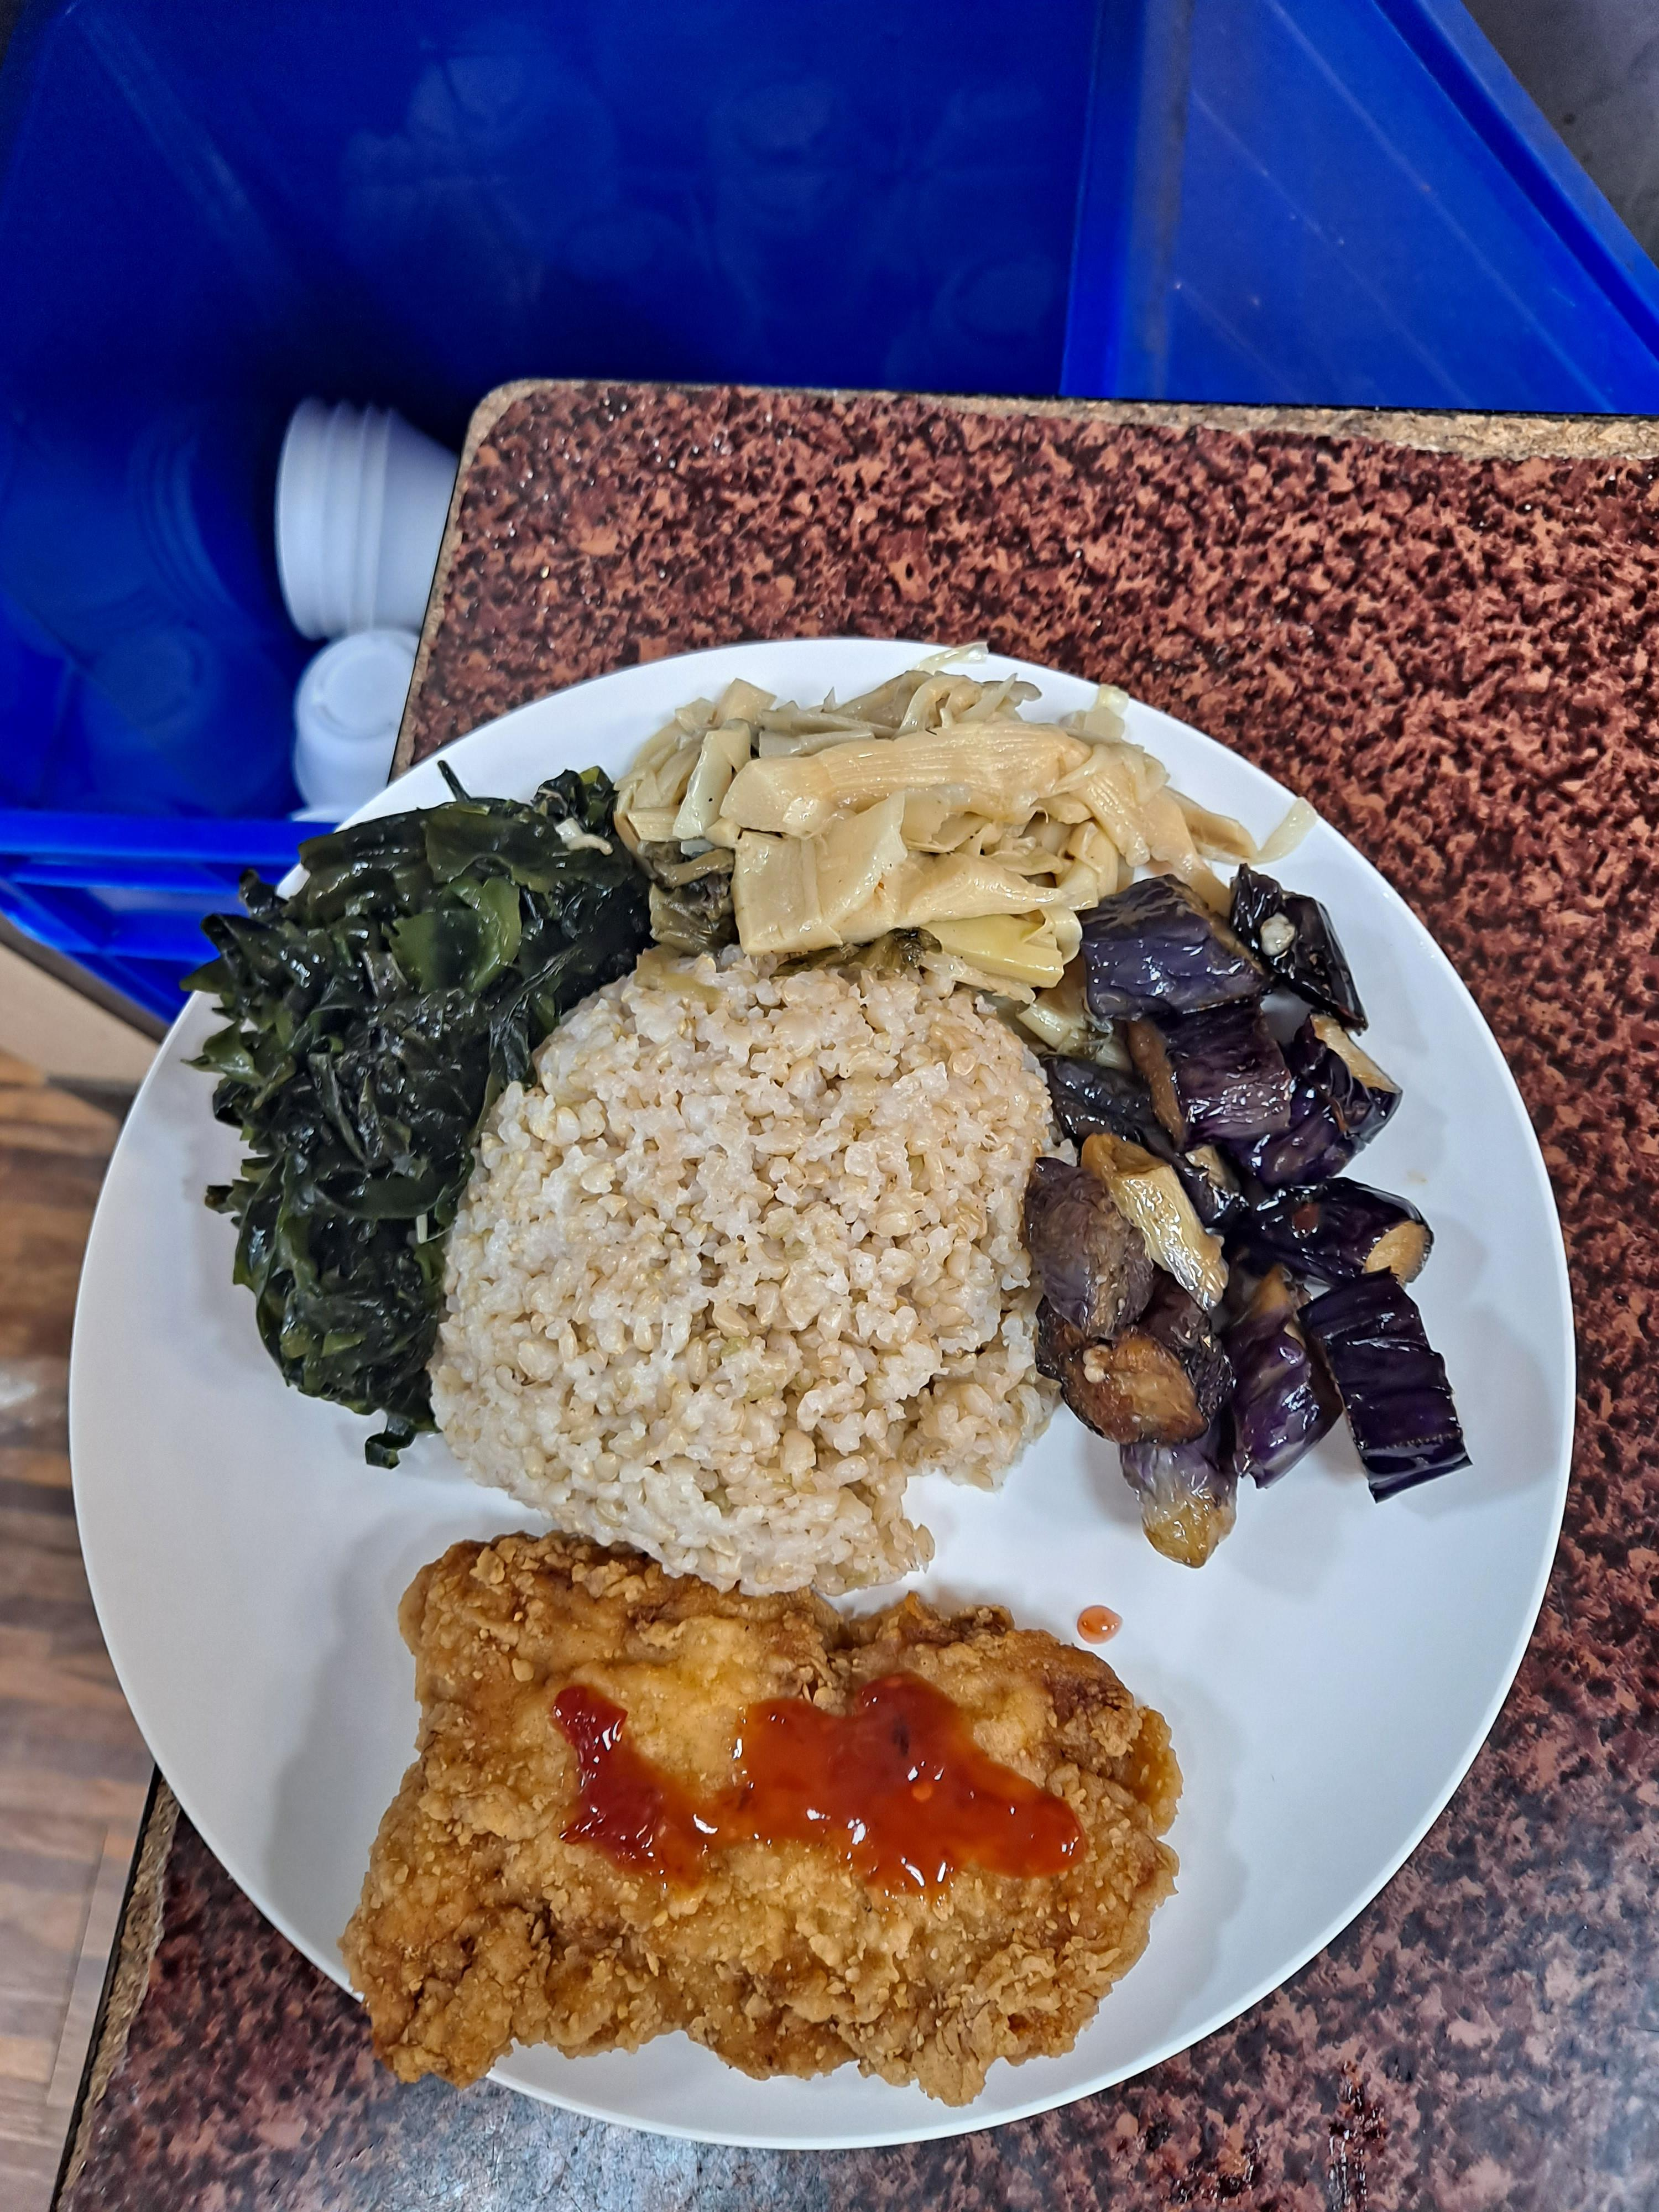big fried chicken leg: (54, 857, 1194, 2212)
box: (319, 1256, 821, 2120)
braised fish fillet: (796, 1190, 1112, 2059), (150, 1026, 389, 1914), (465, 887, 859, 1296)
